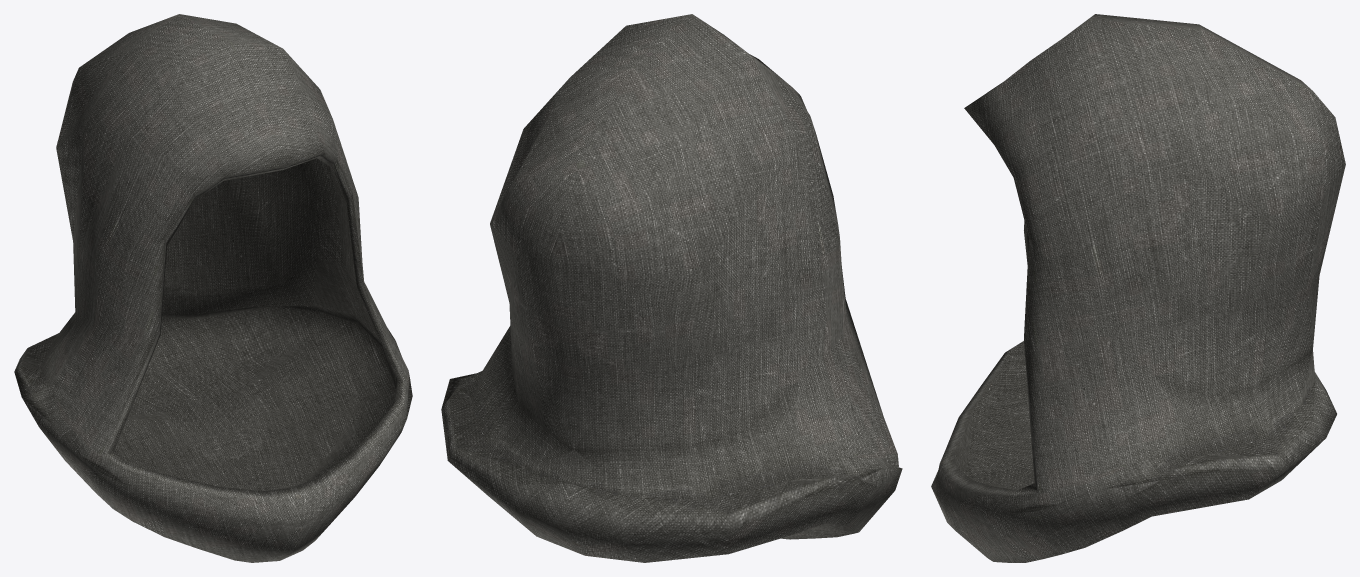
The model's file is hood.glb.
3 views of the same model, side by side, from view 1: azimuth 30°, elevation 25°; view 2: azimuth 150°, elevation 25°; view 3: azimuth 270°, elevation 25° (orthographic). The views are drawn at different scales.
Visible parts, largest first — view 1: hood; view 2: hood; view 3: hood.
Part boxes in pixels (x1,y1,x2,y2): hood: (14, 14, 412, 562); hood: (441, 14, 902, 562); hood: (931, 14, 1345, 562).
Size of the model in its own units: 0.2542 by 0.3307 by 0.2353.
Materials: 1 (1 with a texture image).
